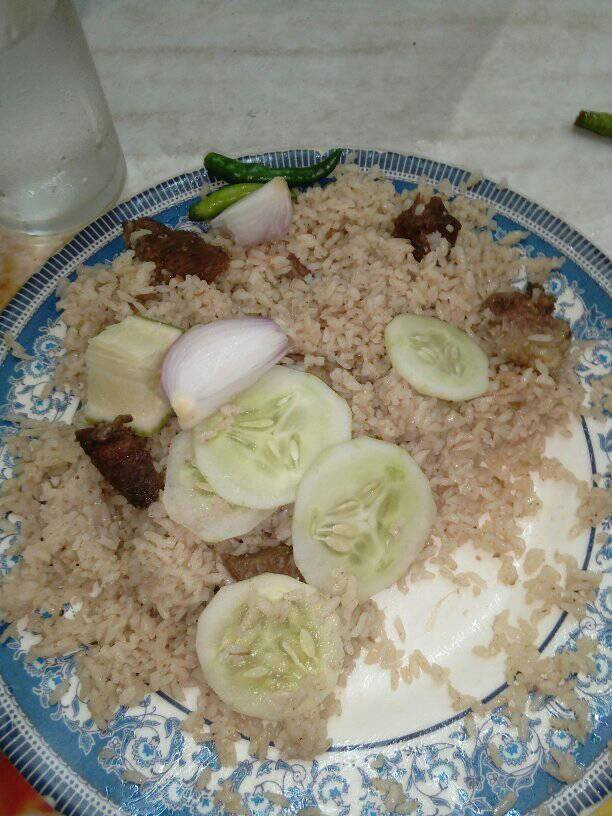tehari: (3, 172, 612, 759)
